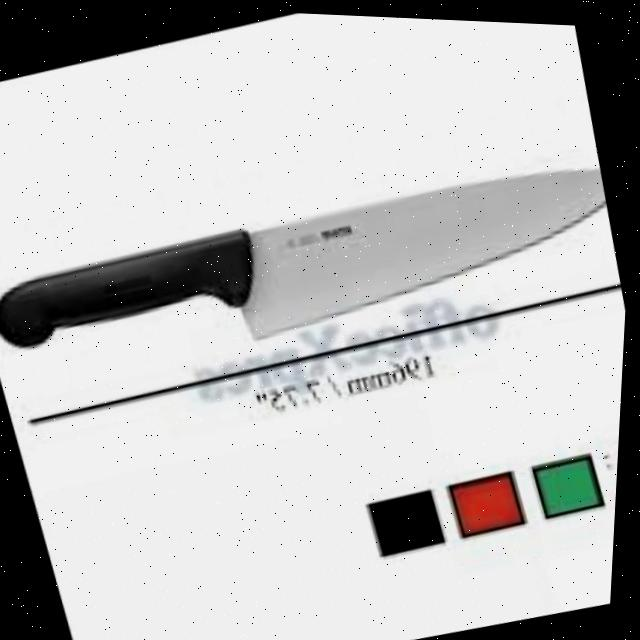knife: (0, 130, 626, 407)
